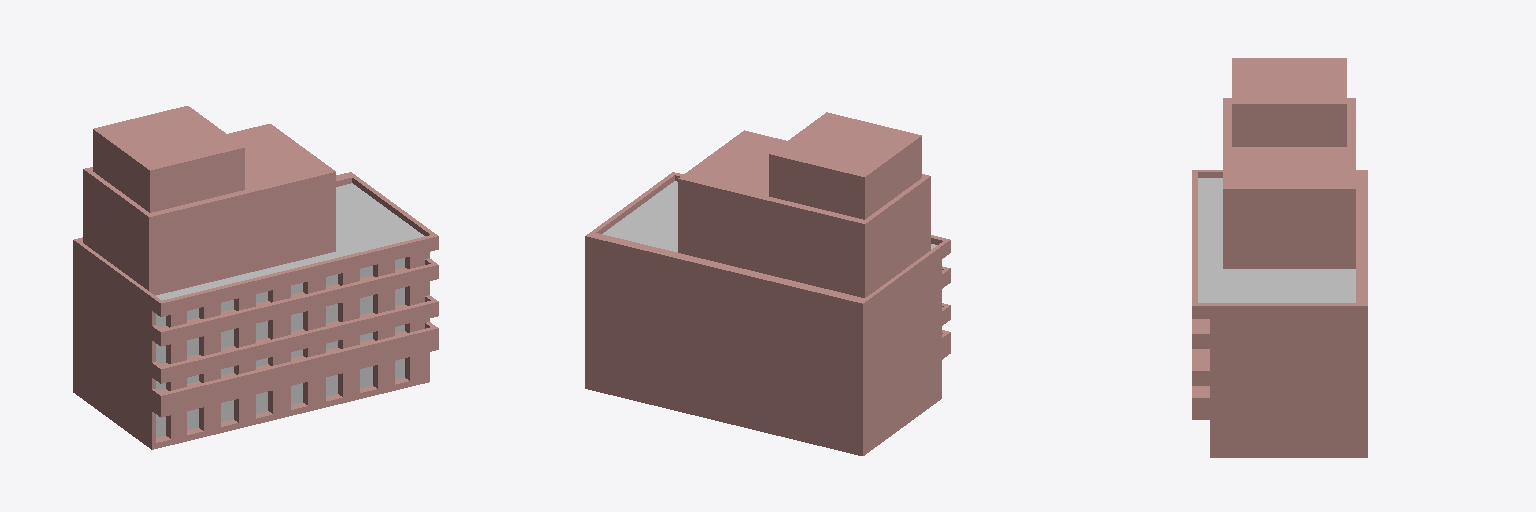
File: Edificio_04.obj
3 renders of one model, left to right at view 1: azimuth 30°, elevation 25°; view 2: azimuth 150°, elevation 25°; view 3: azimuth 270°, elevation 25°, orthographic.
Visible parts, largest first — view 1: Edificio_04.003_Cube.018; view 2: Edificio_04.003_Cube.018; view 3: Edificio_04.003_Cube.018.
Boxes of the visible parts, box(x1,y1,x2,y2) form: Edificio_04.003_Cube.018: box(73, 106, 438, 449); Edificio_04.003_Cube.018: box(585, 112, 950, 455); Edificio_04.003_Cube.018: box(1192, 58, 1367, 457).
Size of the model in its own units: 22.64 by 20.98 by 12.38.